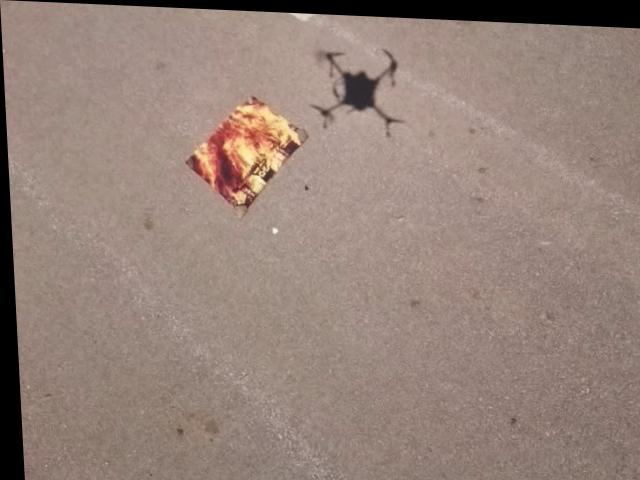fire-poster: (179, 88, 311, 220)
